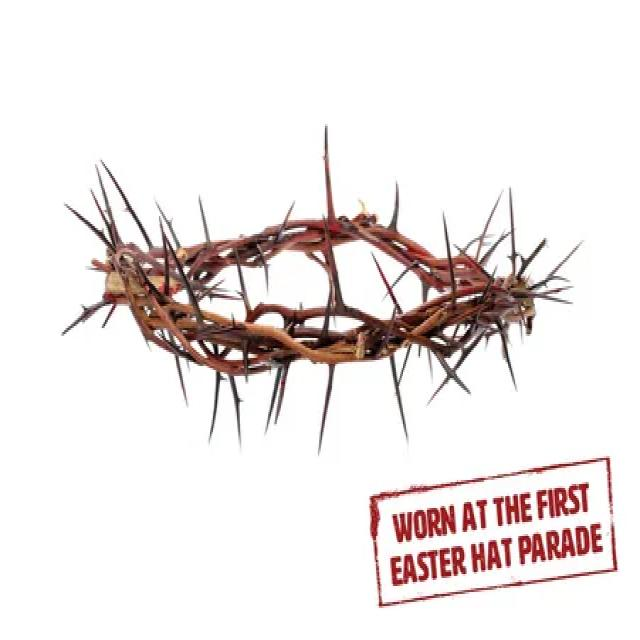crown: (77, 176, 563, 408)
